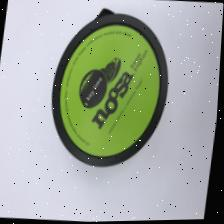plastic: (51, 7, 170, 169)
